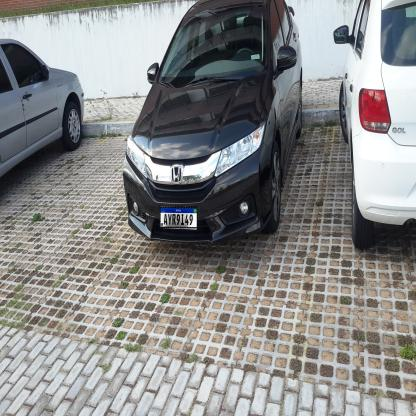PlacaM: (160, 206, 197, 228)
